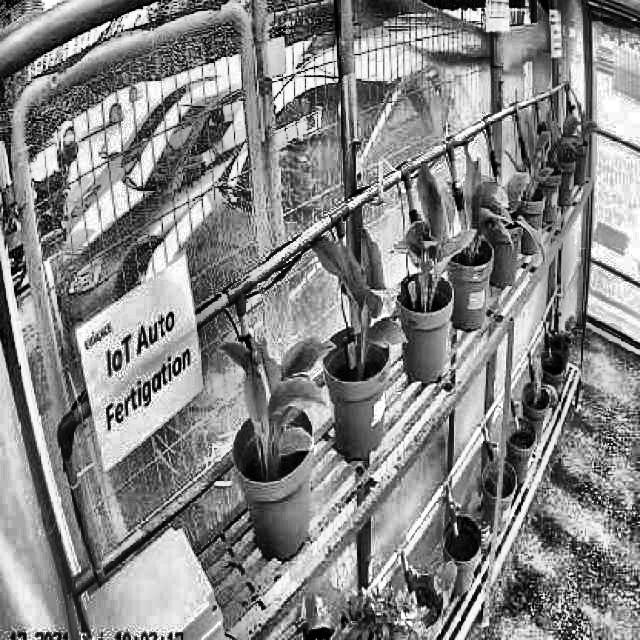plants: (222, 336, 335, 462), (310, 226, 408, 348), (392, 163, 462, 300), (460, 148, 509, 266), (525, 115, 553, 200)
